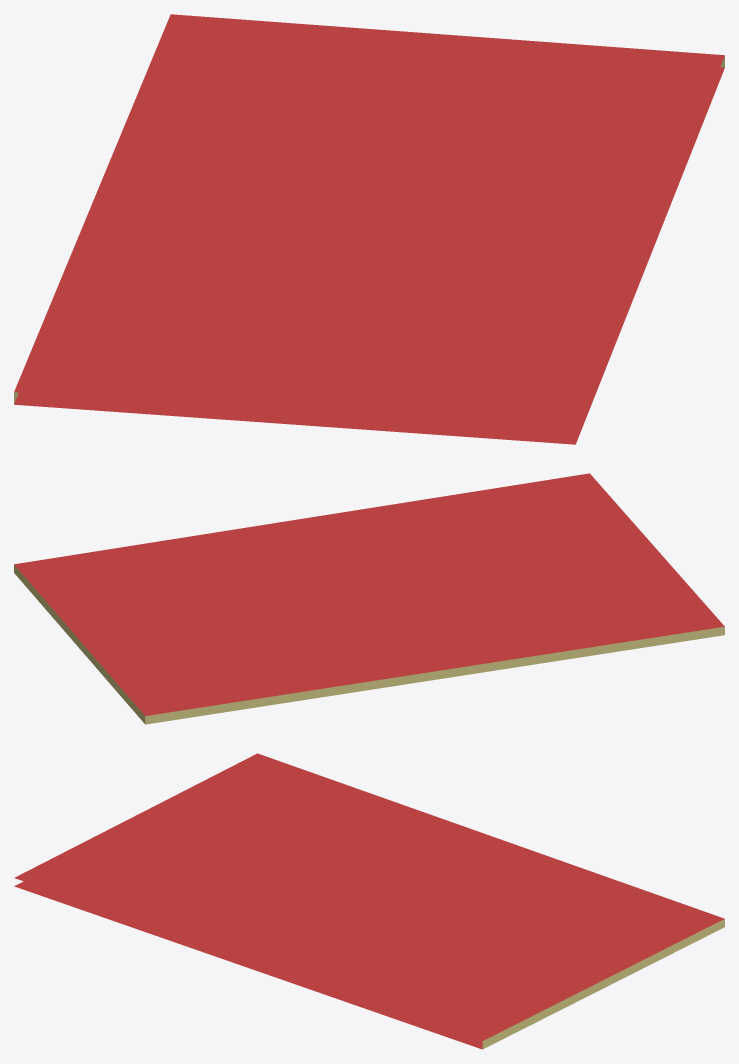
The picture shows the model from 3 angles, top to bottom: view 1: azimuth 30°, elevation 25°; view 2: azimuth 150°, elevation 25°; view 3: azimuth 270°, elevation 25°; orthographic projection. The views are drawn at different scales.
Visible parts, largest first — view 1: group_3, group_5; view 2: group_3, group_4; view 3: group_3, group_5, group_4.
Boxes of the visible parts, bbox=[...] form: group_3: bbox=[14, 14, 724, 432]; group_5: bbox=[14, 67, 724, 444]; group_3: bbox=[14, 473, 724, 715]; group_4: bbox=[14, 565, 724, 724]; group_3: bbox=[14, 753, 724, 1040]; group_5: bbox=[14, 881, 482, 1049]; group_4: bbox=[482, 919, 724, 1048].
Bounding box in the file's own units: 7.36 × 7.68 × 0.1.
